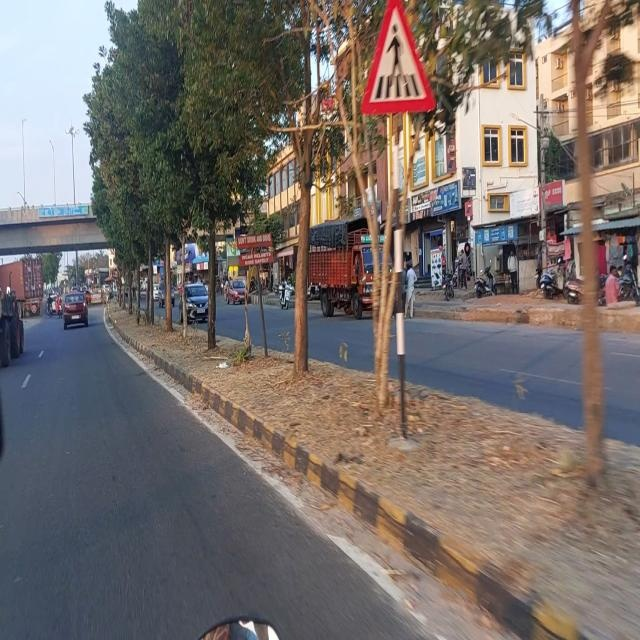bien_nguy_hiem: (358, 0, 436, 115)
